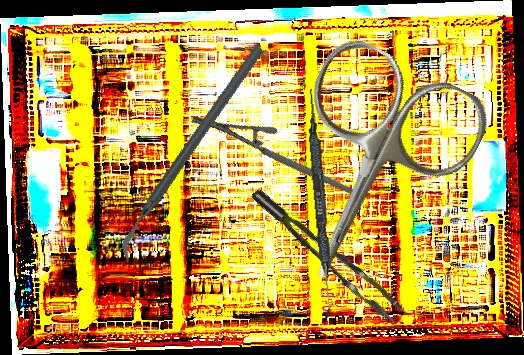Chopper: (64, 42, 321, 264)
Iris Scissors: (239, 30, 498, 314)
Needle Holder: (190, 75, 354, 236)
Spatula Surgical: (301, 88, 339, 320)
Tissue Forceps: (250, 170, 406, 337)
